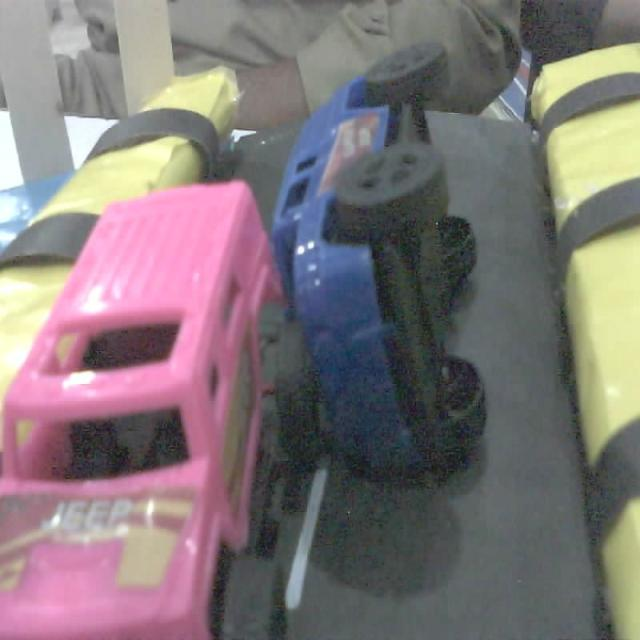Accident: (0, 37, 485, 640), (0, 182, 283, 639), (264, 38, 492, 490)
